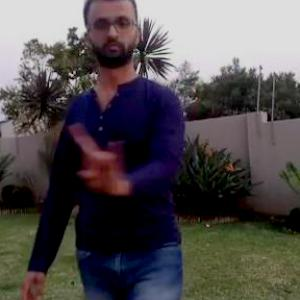takeoff-hand: (71, 119, 127, 195)
